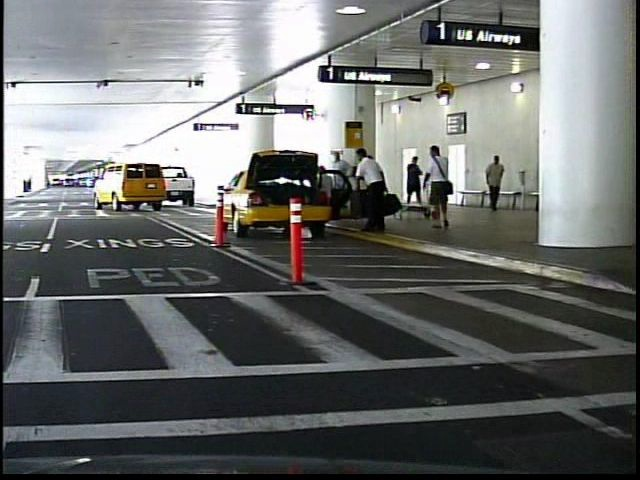person: (420, 147, 457, 233), (476, 151, 502, 213)
